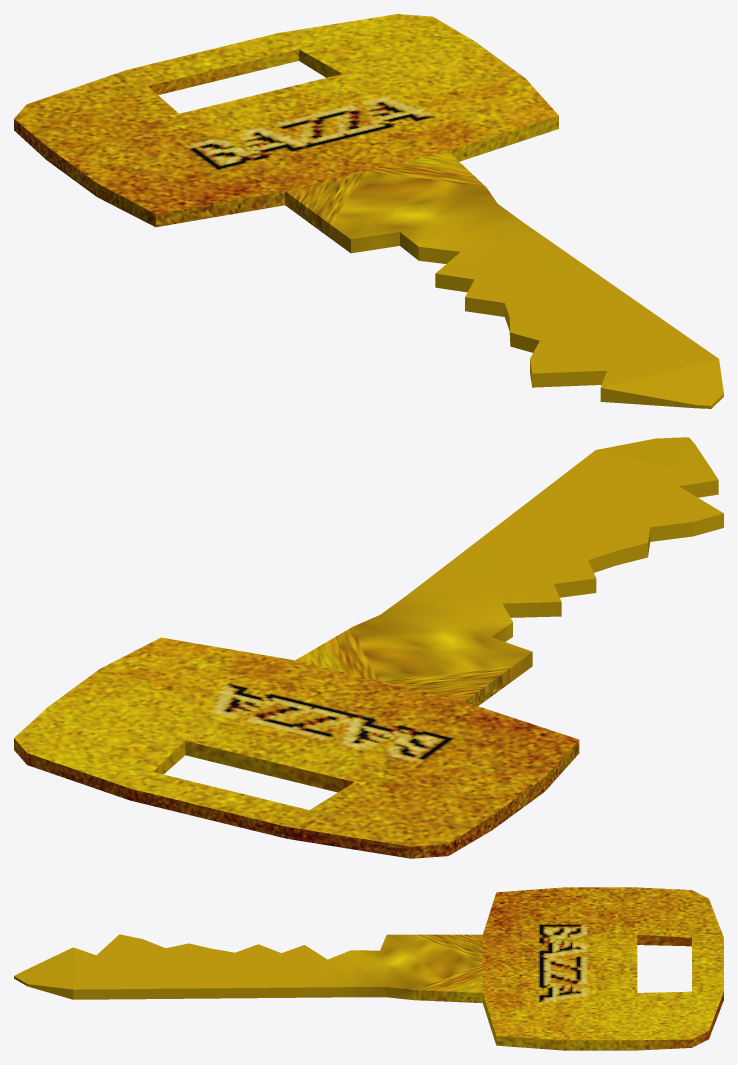
The model's file is ApartmentKey.obj.
3 renders of one model, top to bottom at view 1: azimuth 30°, elevation 25°; view 2: azimuth 150°, elevation 25°; view 3: azimuth 270°, elevation 25°, orthographic. The views are drawn at different scales.
Visible parts, largest first — view 1: Cube_Cube.001; view 2: Cube_Cube.001; view 3: Cube_Cube.001.
Part boxes in pixels (<box>): Cube_Cube.001: <box>14,14,723,408</box>; Cube_Cube.001: <box>14,437,723,858</box>; Cube_Cube.001: <box>14,887,723,1050</box>.
Size of the model in its own units: 0.4881 by 0.0152 by 0.9584.
